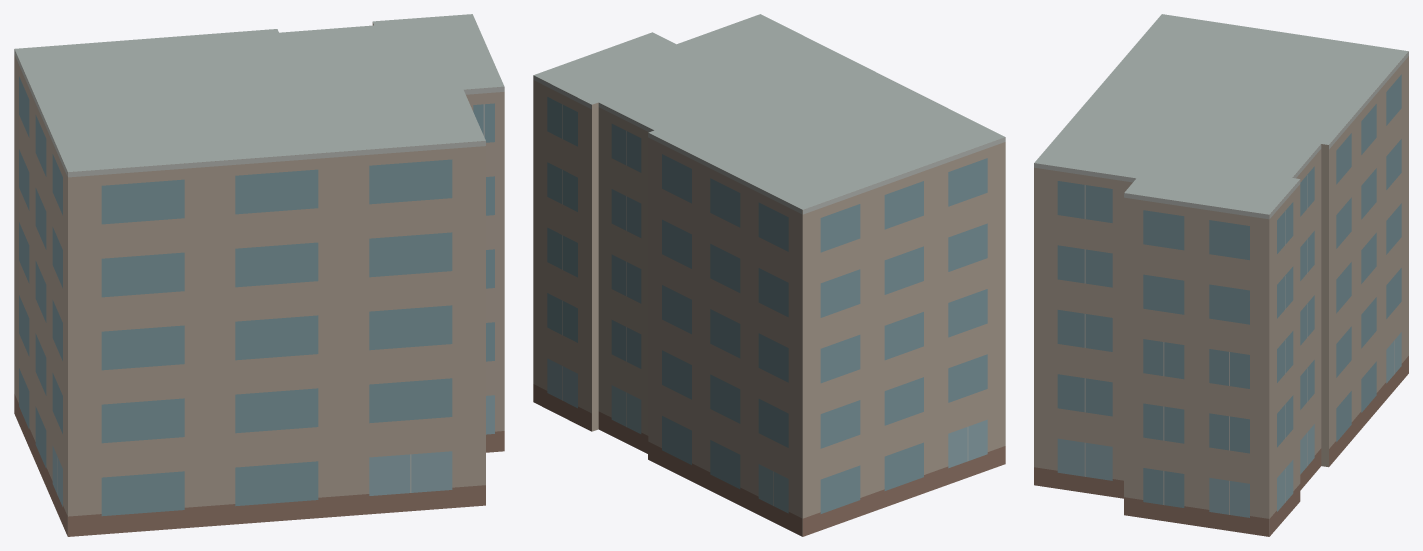
The model's file is survey-upis-33007742.glb.
3 renders of one model, left to right at view 1: azimuth 30°, elevation 25°; view 2: azimuth 150°, elevation 25°; view 3: azimuth 270°, elevation 25°, orthographic. The views are drawn at different scales.
Parts seen in each view (by area): view 1: survey-upis-33007742.tmp; view 2: survey-upis-33007742.tmp; view 3: survey-upis-33007742.tmp.
Boxes of the visible parts, box(x1,y1,x2,y2) form: survey-upis-33007742.tmp: box(14, 14, 504, 536); survey-upis-33007742.tmp: box(533, 14, 1005, 536); survey-upis-33007742.tmp: box(1034, 14, 1408, 536).
Bounding box in the file's own units: 22.59 × 16.9 × 17.83.
